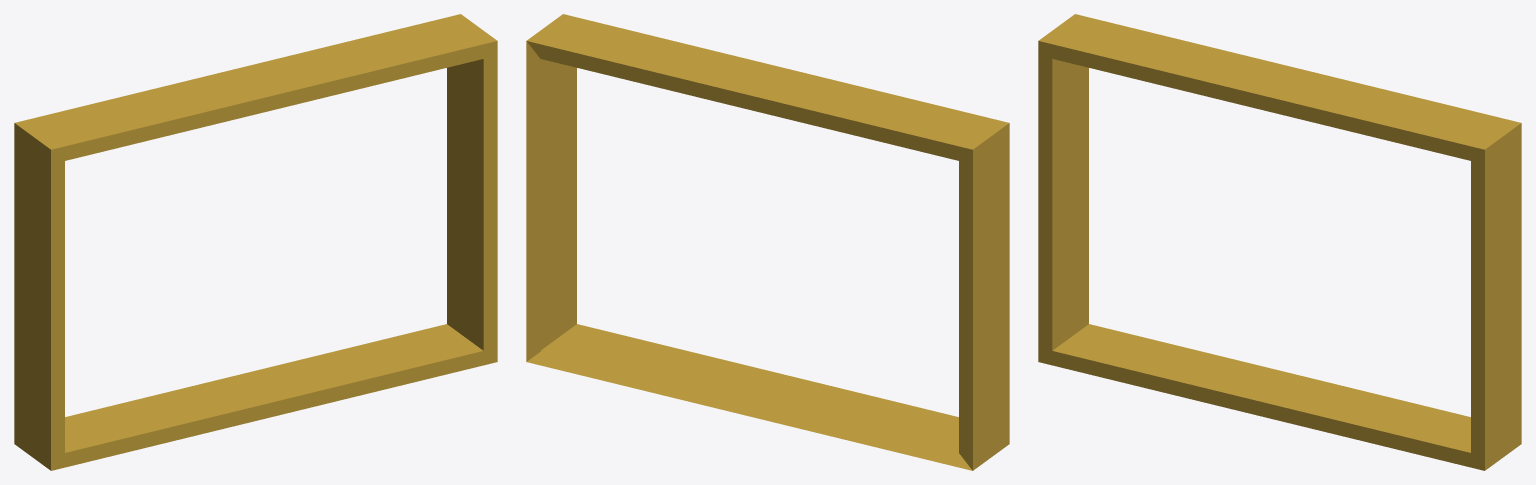
The model's file is windowPanel.fbx.
3 renders of one model, left to right at view 1: azimuth 30°, elevation 25°; view 2: azimuth 150°, elevation 25°; view 3: azimuth 330°, elevation 25°, orthographic.
Parts seen in each view (by area): view 1: windowPanel; view 2: windowPanel; view 3: windowPanel.
Boxes of the visible parts, x1,y1,x2,y2 form: windowPanel: [14, 14, 497, 470]; windowPanel: [526, 14, 1009, 470]; windowPanel: [1038, 14, 1521, 470].
Size of the model in its own units: 160 by 110 by 22.78.
